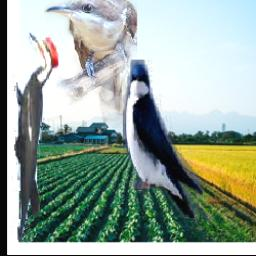Cuckoo: (45, 0, 138, 128)
Swallow: (123, 60, 203, 218)
Woodpecker: (11, 30, 58, 243)
